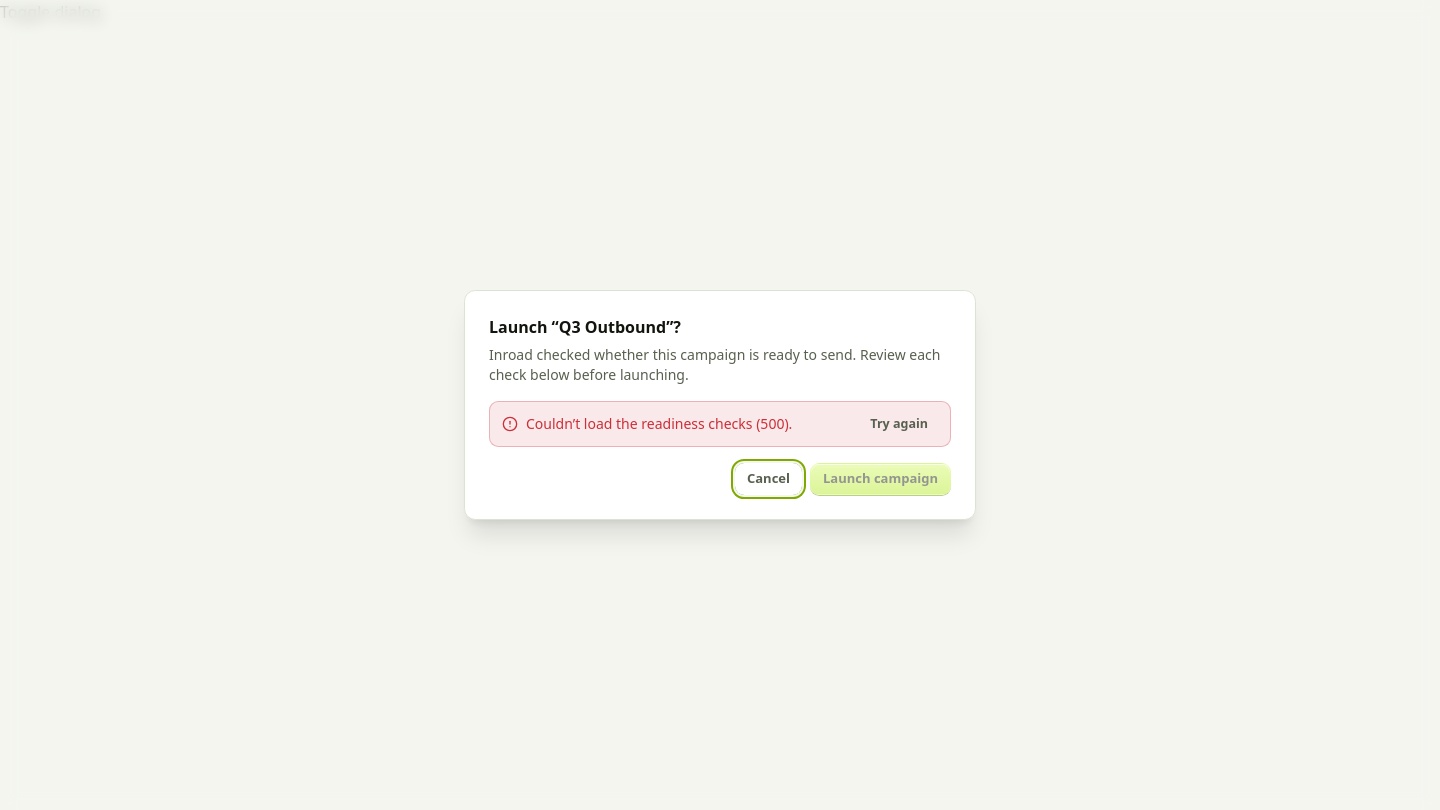
Test: a failed preflight fetch shows a retryable error and keeps the primary action disabled
Check: the message "Couldn’t load the readiness checks (500). Try again" is shown, box left=489, top=401, right=951, bottom=447
Check: the button "Launch campaign" is disabled, box left=810, top=463, right=951, bottom=495
Click the button "Try again" at (899, 424), box left=860, top=410, right=938, bottom=438
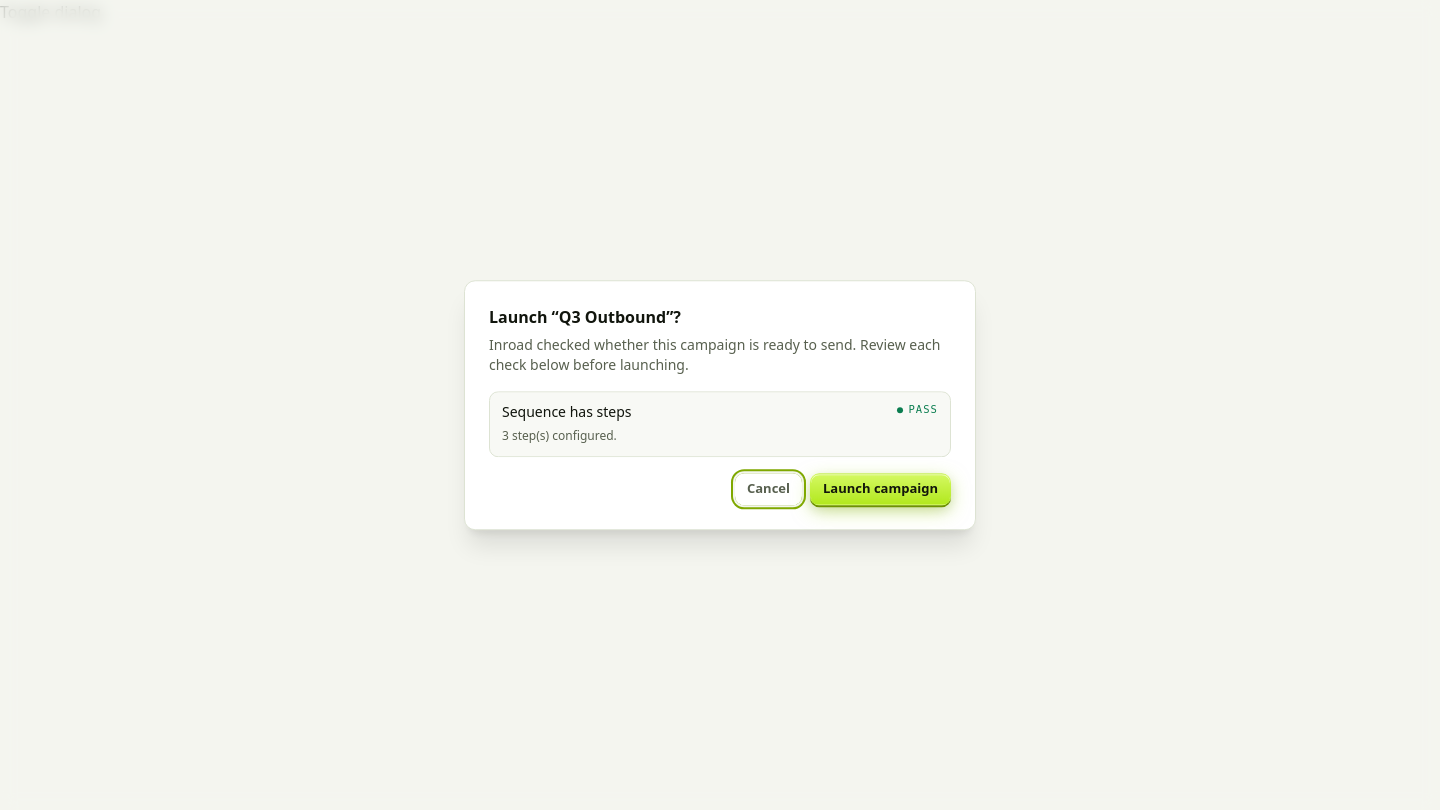
Check: the button "Launch campaign" is enabled, box left=810, top=473, right=951, bottom=505
